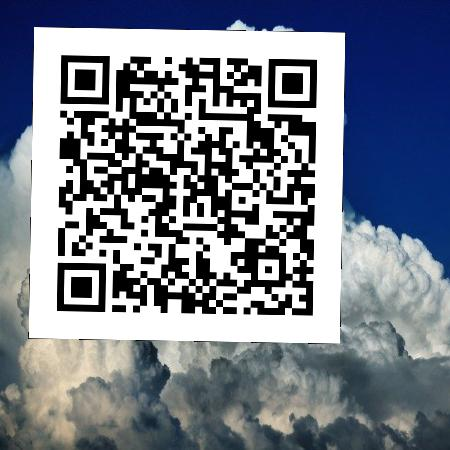qr_code: (28, 26, 345, 344)
